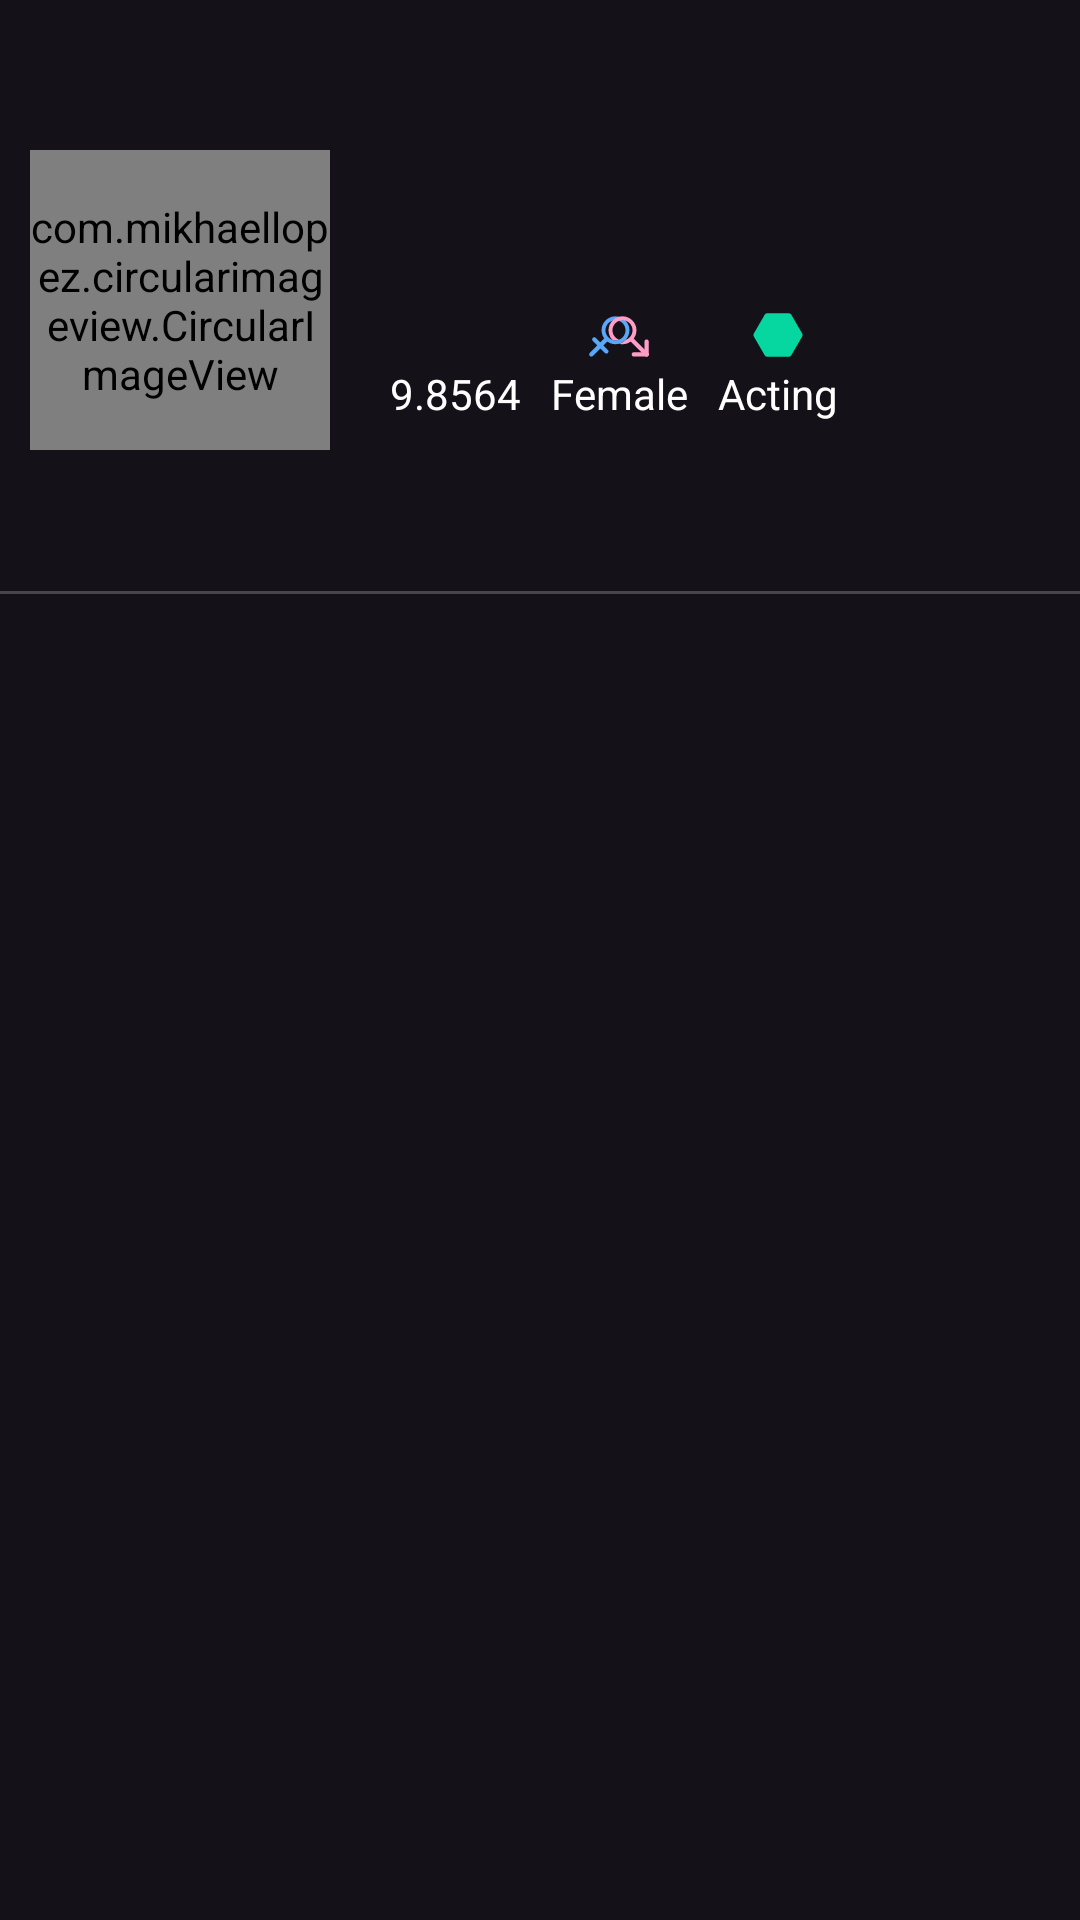

Where to tap for icons on this 1080w x 1920h app screen, as point (x, y):
gender: point (619, 336)
